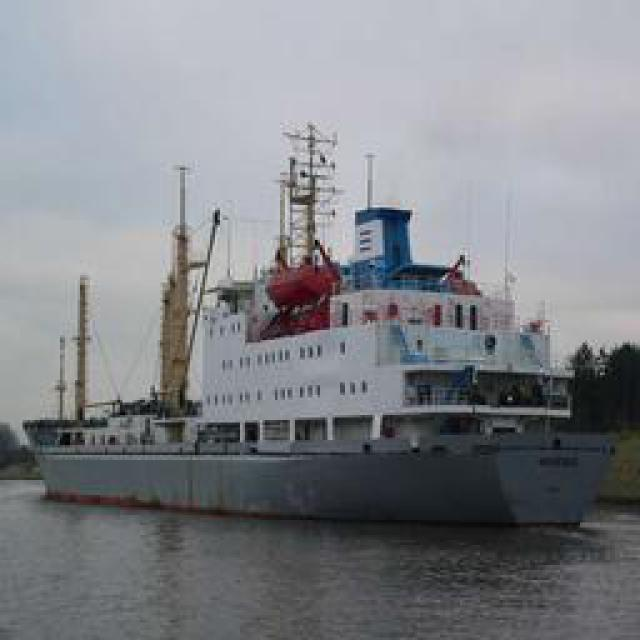Ship: (18, 117, 626, 530)
